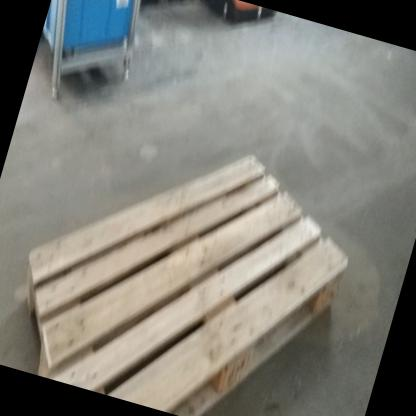BoxFace: (22, 148, 352, 416)
